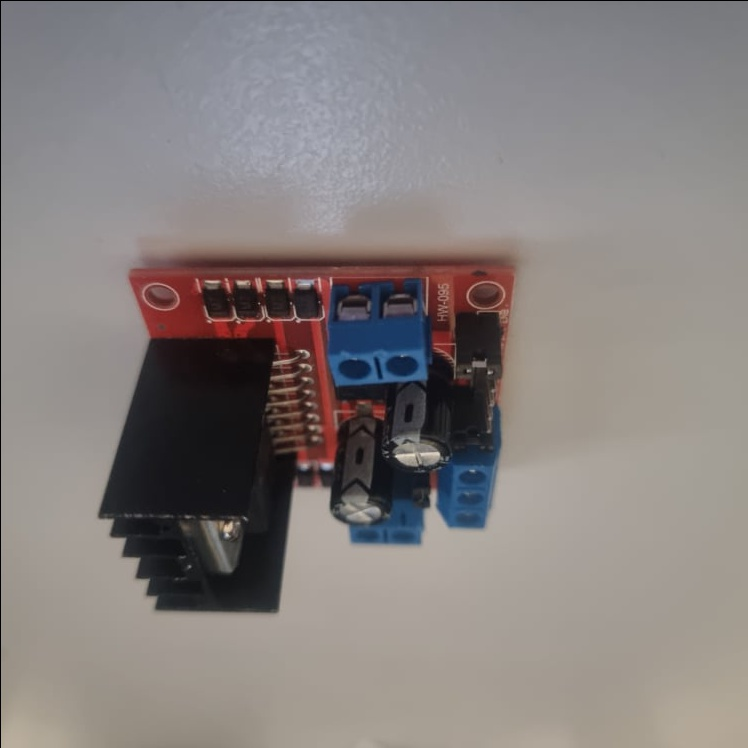MOTOR: (98, 264, 514, 615)
